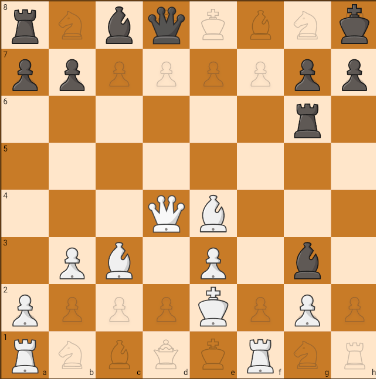bb: (97, 1, 137, 47), (286, 240, 329, 282)
bk: (332, 1, 376, 48)
bp: (4, 51, 44, 95), (53, 50, 91, 93), (336, 52, 374, 94), (290, 52, 325, 93)
bq: (146, 3, 187, 45)
br: (3, 6, 44, 47), (287, 100, 326, 139)
wb: (98, 240, 140, 281), (191, 194, 233, 233)
wk: (144, 193, 189, 236), (195, 287, 233, 329)
wp: (5, 287, 44, 329), (196, 240, 233, 282), (290, 290, 325, 327), (56, 242, 88, 281)
wr: (3, 333, 47, 374), (244, 332, 278, 376)
